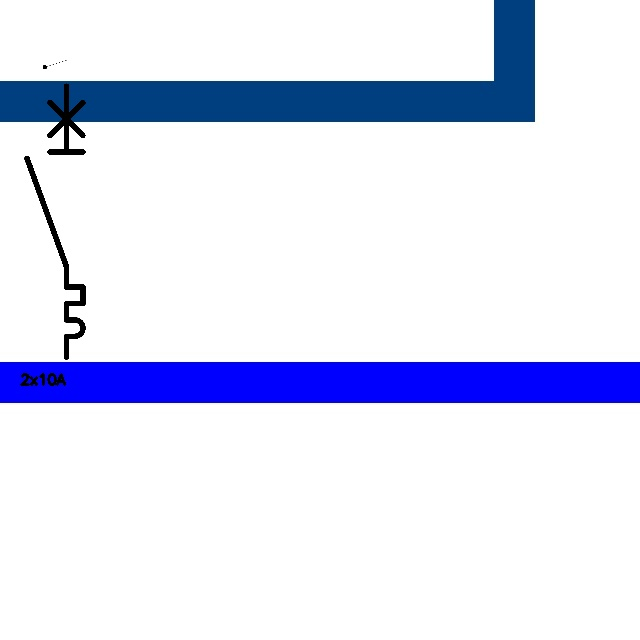interruptor_termomagnetico: (20, 79, 90, 364)
